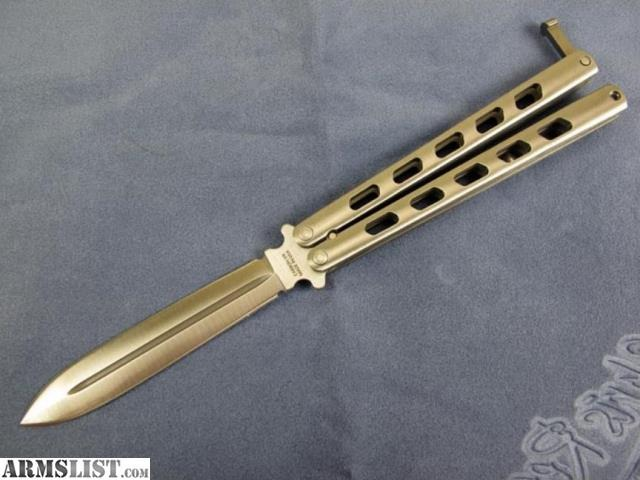knife: (15, 17, 630, 428)
